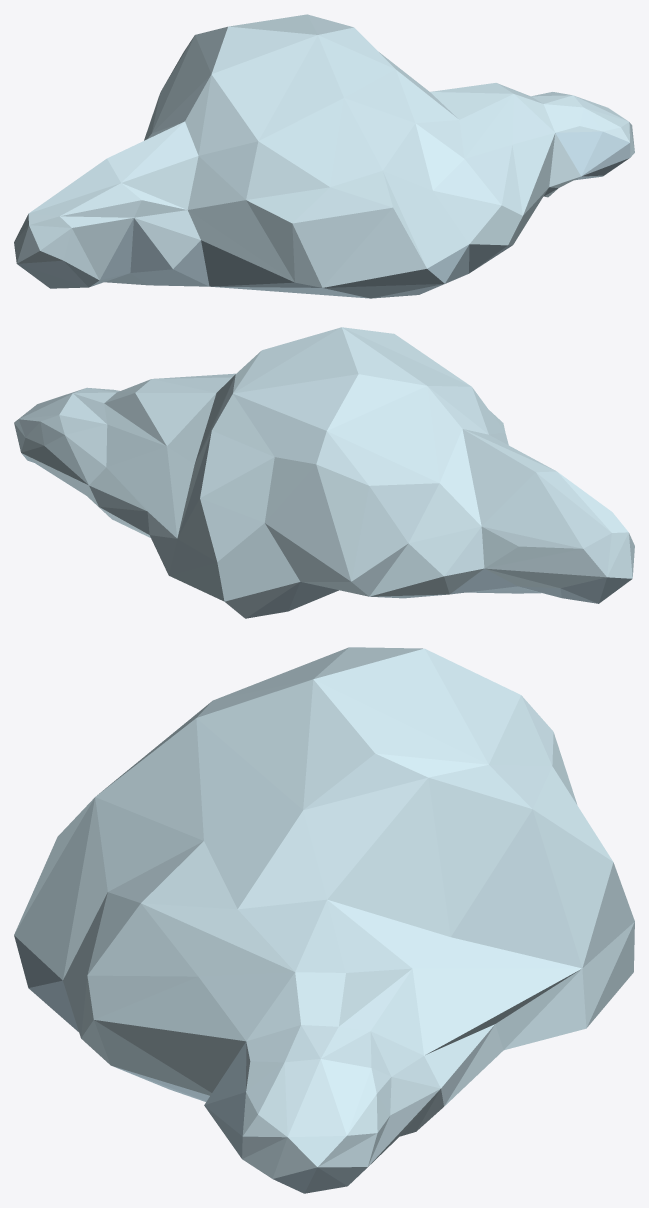
Rendered from SM_Env_Cloud_06.fbx.
3 renders of one model, top to bottom at view 1: azimuth 30°, elevation 25°; view 2: azimuth 150°, elevation 25°; view 3: azimuth 270°, elevation 25°, orthographic. The views are drawn at different scales.
Parts seen in each view (by area): view 1: SM_Env_Cloud_06; view 2: SM_Env_Cloud_06; view 3: SM_Env_Cloud_06.
Boxes of the visible parts, x1,y1,x2,y2 form: SM_Env_Cloud_06: [14, 14, 634, 298]; SM_Env_Cloud_06: [14, 327, 634, 618]; SM_Env_Cloud_06: [14, 647, 634, 1193].
Bounding box in the file's own units: 0.055 × 0.0194 × 0.0322.
Materials: 1 (1 with a texture image).
